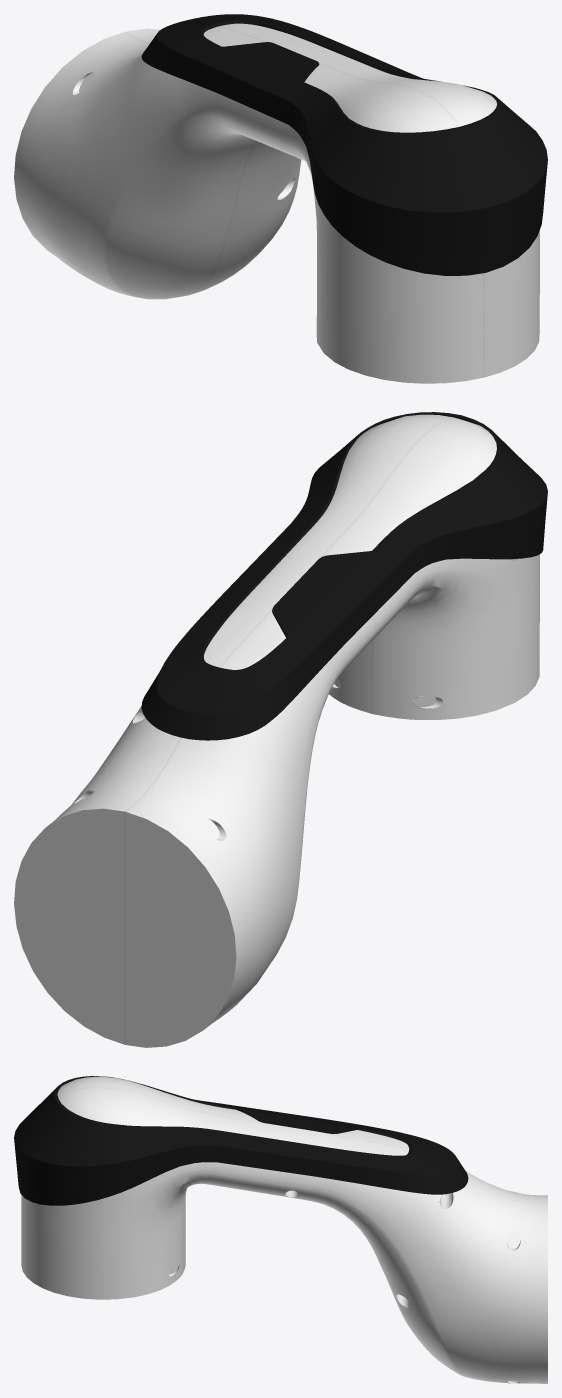
3 renders of one model, top to bottom at view 1: azimuth 30°, elevation 25°; view 2: azimuth 150°, elevation 25°; view 3: azimuth 270°, elevation 25°, orthographic. The views are drawn at different scales.
Parts seen in each view (by area): view 1: link5; view 2: link5; view 3: link5.
Part boxes in pixels (x1=…): link5: x1=14, y1=14, x2=547, y2=383; link5: x1=14, y1=412, x2=547, y2=1047; link5: x1=14, y1=1076, x2=547, y2=1383.
Size of the model in its own units: 0.1098 by 0.1849 by 0.3112.
Materials: 1 (1 with a texture image).
